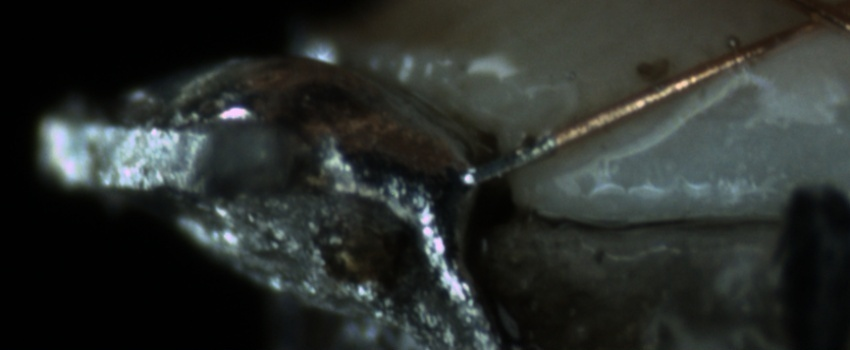CL: (777, 2, 843, 34)
TS: (467, 133, 556, 185)
